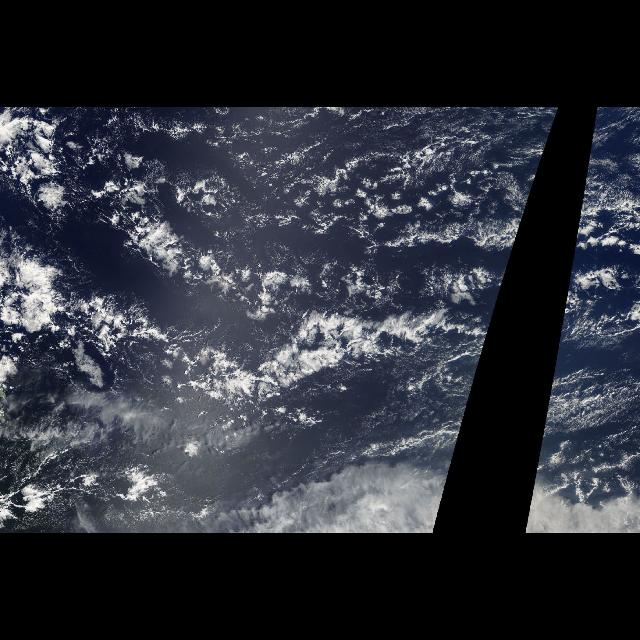Fish: (1, 116, 491, 434)
Sugar: (152, 116, 524, 220), (332, 363, 460, 452)
